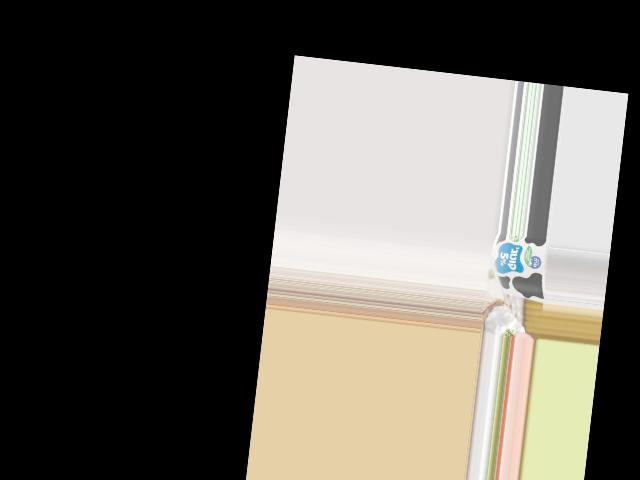cotage: (488, 233, 550, 299)
